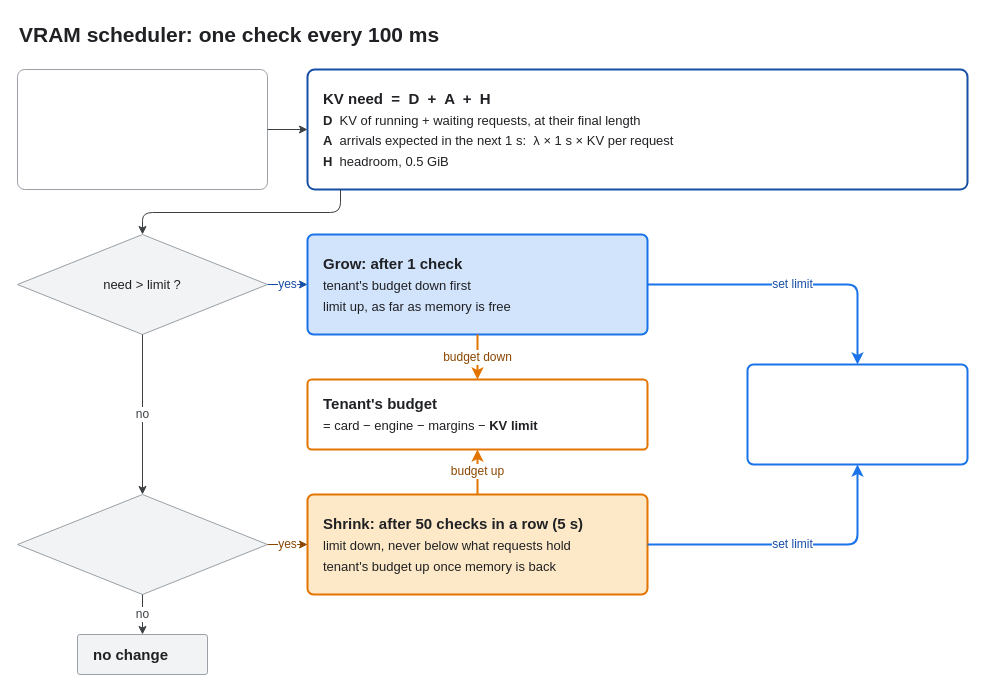
Image size: 986x692. Some labels were removed from this diagram. Each missing label, with the box of its shape:
kvcached maps and frees KV pages; running requests are never cut: (746, 363, 968, 465)
need < limit − 1 GiB ?: (16, 494, 268, 594)
Router's table running and waiting requests arrival rate λ: (16, 68, 268, 190)
